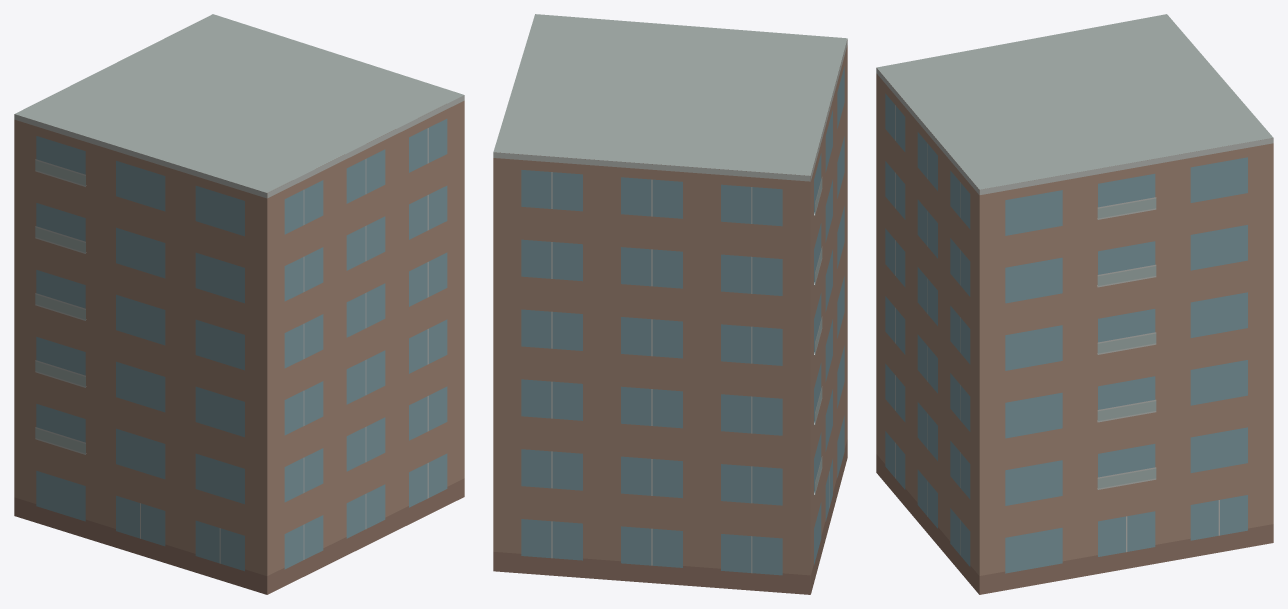
Rendered from survey-upis-32941442.glb.
3 renders of one model, left to right at view 1: azimuth 30°, elevation 25°; view 2: azimuth 150°, elevation 25°; view 3: azimuth 270°, elevation 25°, orthographic. The views are drawn at different scales.
Visible parts, largest first — view 1: survey-upis-32941442.tmp; view 2: survey-upis-32941442.tmp; view 3: survey-upis-32941442.tmp.
Part boxes in pixels (box(x1,y1,x2,y2)): survey-upis-32941442.tmp: box(14, 14, 464, 594); survey-upis-32941442.tmp: box(493, 14, 847, 594); survey-upis-32941442.tmp: box(876, 14, 1273, 594).
Bounding box in the file's own units: 16.67 × 17.9 × 15.91.
